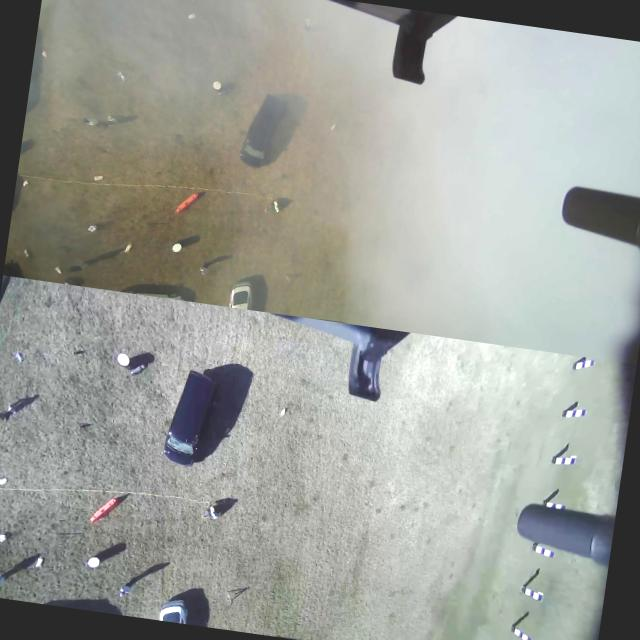car: (162, 352, 230, 480), (226, 85, 300, 180), (220, 278, 255, 342), (156, 590, 190, 624)
